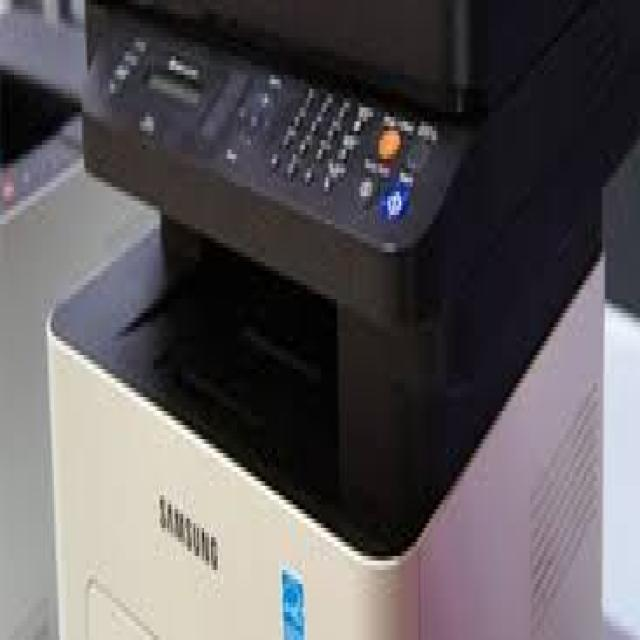printer: (46, 0, 608, 638)
